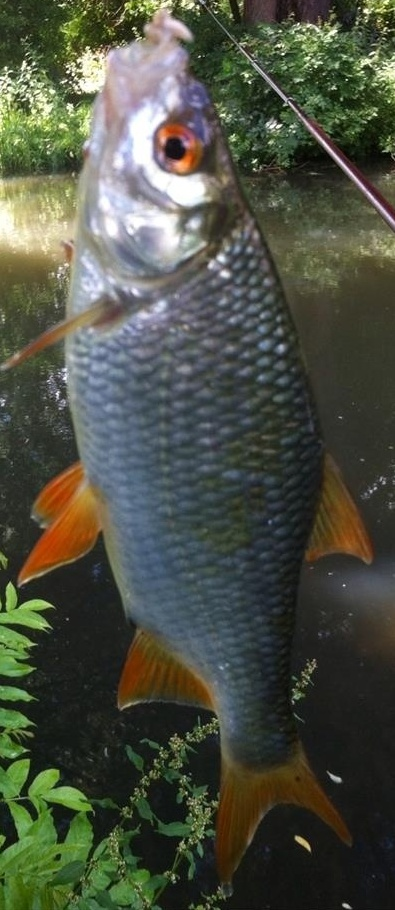Rutilus rutilus: (20, 20, 375, 890)
